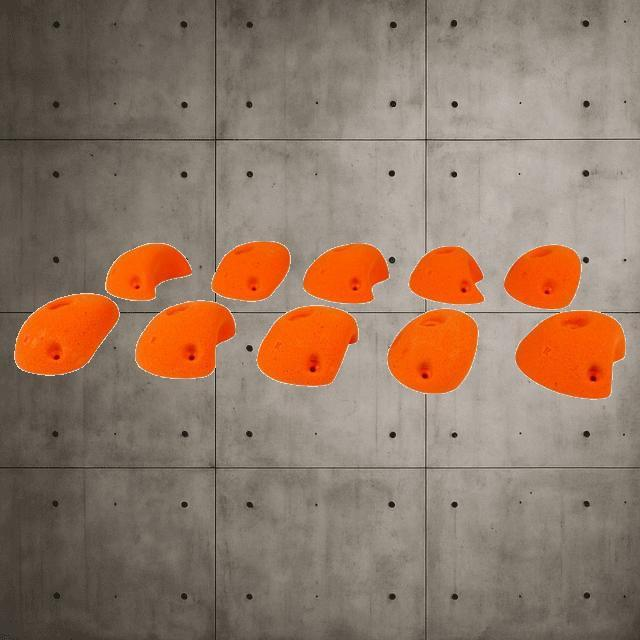Jug: (514, 310, 626, 398), (13, 292, 118, 376), (256, 306, 358, 386), (134, 300, 236, 378), (386, 308, 478, 394), (303, 242, 389, 304), (105, 242, 192, 300), (504, 244, 580, 308), (210, 240, 290, 300), (408, 245, 484, 305)
